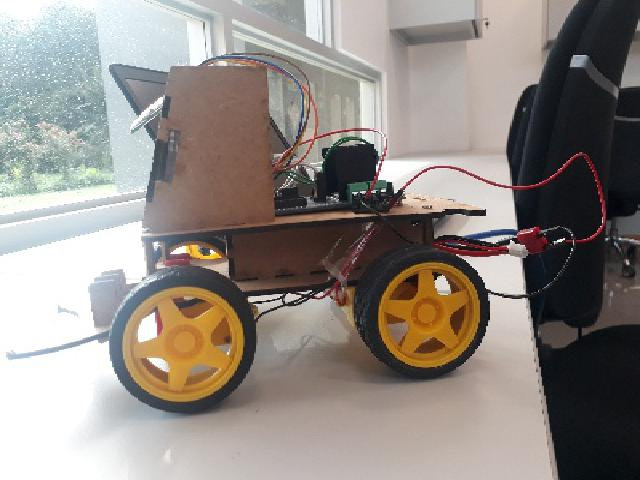Robot: (6, 52, 490, 414)
